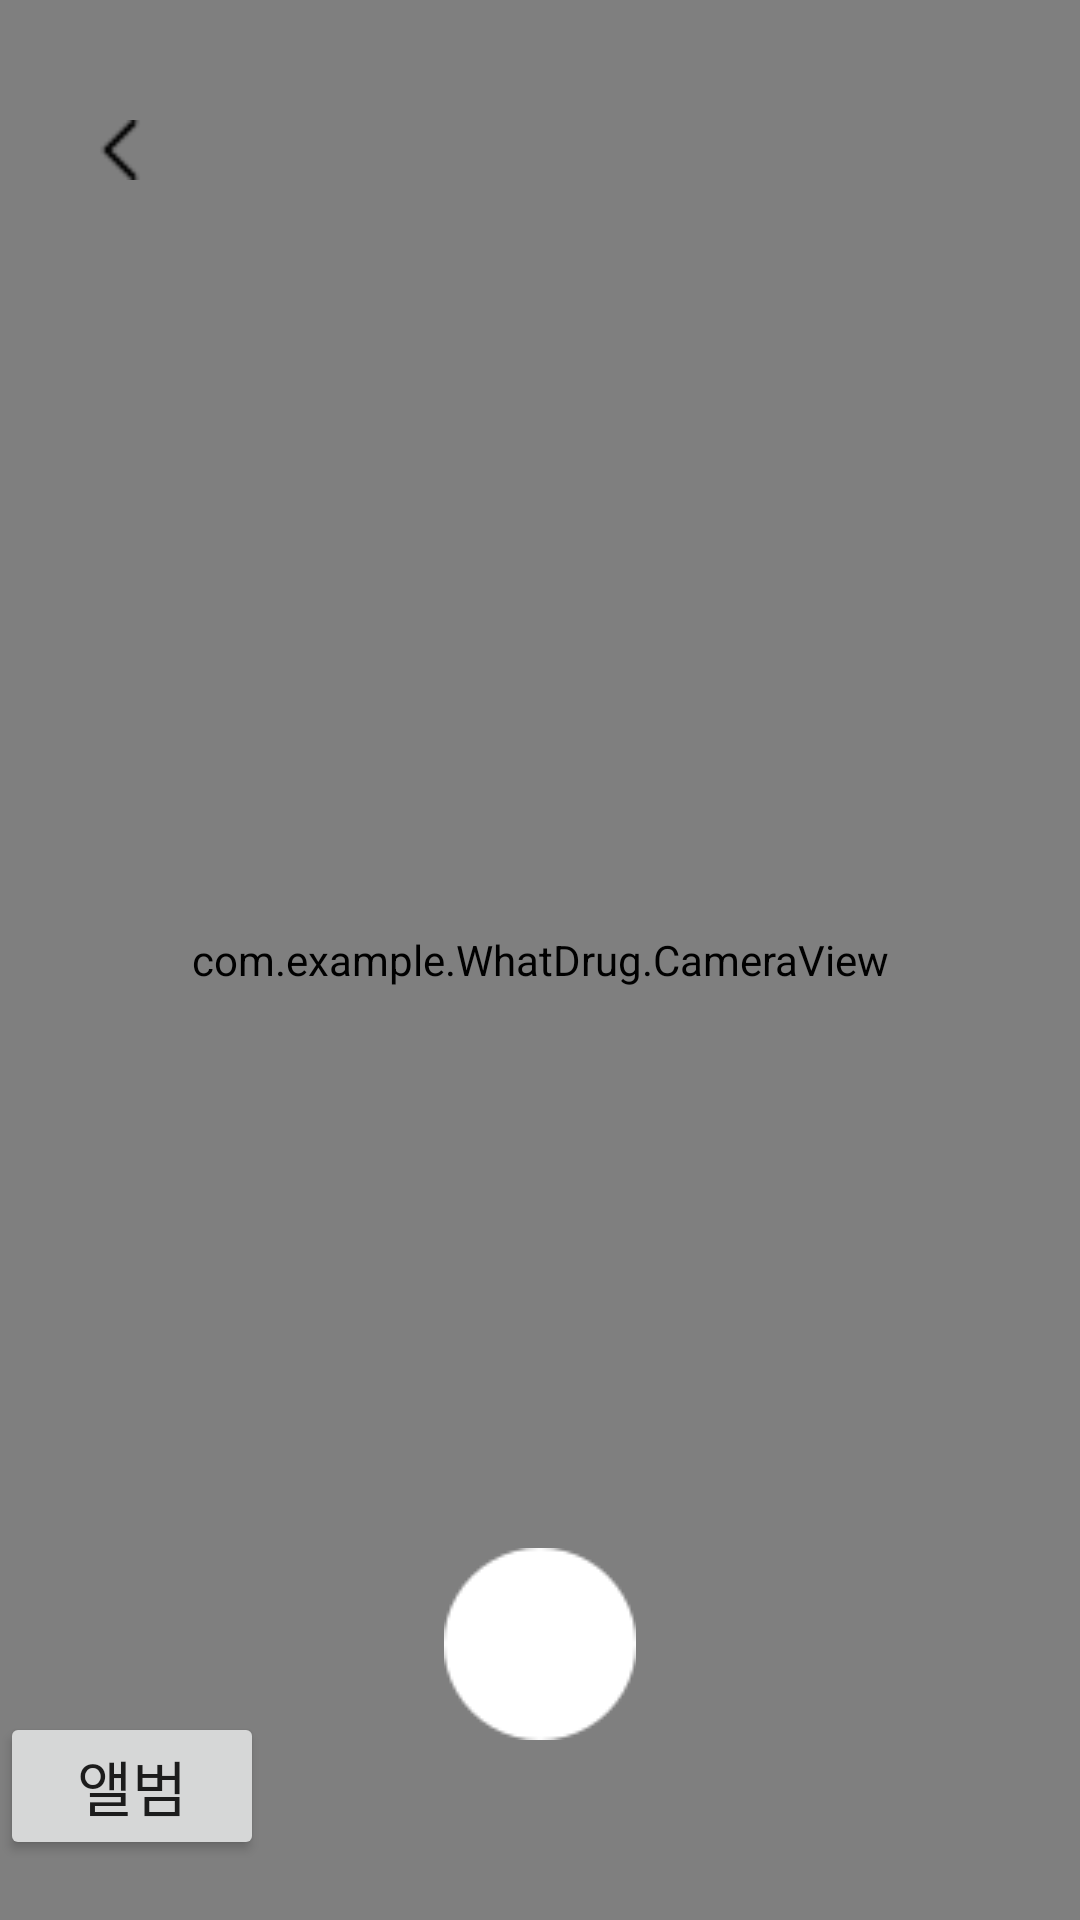

Icon click points for this 1080 x 1920 phone screenshot, format [x,y]:
back: [120,150]
